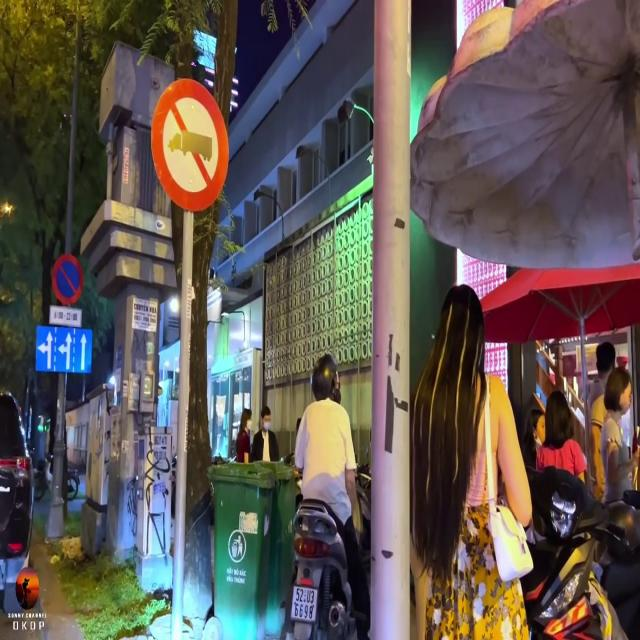bien_trang: (290, 582, 318, 623)
